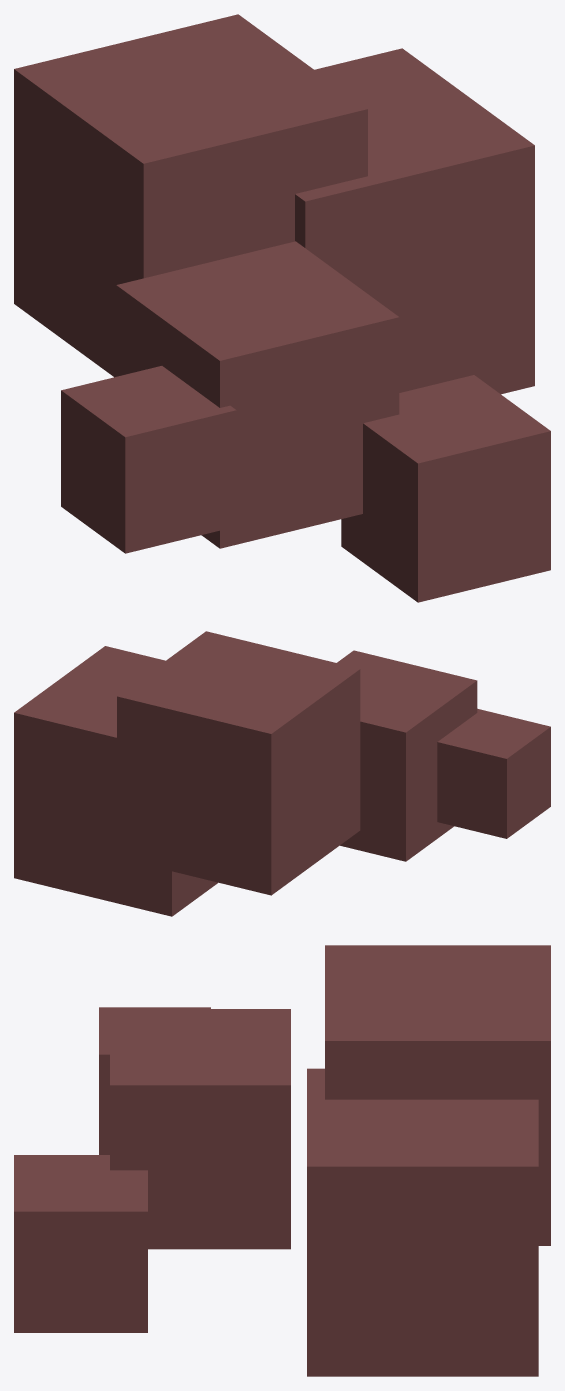
The model's file is RUBBLE_002.glb.
The picture shows the model from 3 angles, top to bottom: view 1: azimuth 30°, elevation 25°; view 2: azimuth 150°, elevation 25°; view 3: azimuth 270°, elevation 25°; orthographic projection. The views are drawn at different scales.
Parts seen in each view (by area): view 1: Granite rubble fragments fragment 5, Granite rubble fragments fragment 2, Granite rubble fragments fragment 3, Granite rubble fragments fragment 1, Granite rubble fragments fragment 4; view 2: Granite rubble fragments fragment 5, Granite rubble fragments fragment 2, Granite rubble fragments fragment 3, Granite rubble fragments fragment 4; view 3: Granite rubble fragments fragment 2, Granite rubble fragments fragment 3, Granite rubble fragments fragment 5, Granite rubble fragments fragment 1, Granite rubble fragments fragment 4.
Part boxes in pixels (x1,y1,x2,y2): Granite rubble fragments fragment 5: (14,14,367,377); Granite rubble fragments fragment 2: (295,48,534,394); Granite rubble fragments fragment 3: (116,241,399,548); Granite rubble fragments fragment 1: (341,375,550,602); Granite rubble fragments fragment 4: (61,366,236,553); Granite rubble fragments fragment 5: (117,631,360,895); Granite rubble fragments fragment 2: (14,646,217,916); Granite rubble fragments fragment 3: (337,650,477,861); Granite rubble fragments fragment 4: (437,708,550,838); Granite rubble fragments fragment 2: (307,1068,538,1376); Granite rubble fragments fragment 3: (110,1009,290,1249); Granite rubble fragments fragment 5: (325,945,550,1245); Granite rubble fragments fragment 1: (14,1155,147,1332); Granite rubble fragments fragment 4: (99,1007,210,1154).
Bounding box in the file's own units: 1.14 × 0.6831 × 1.15.
